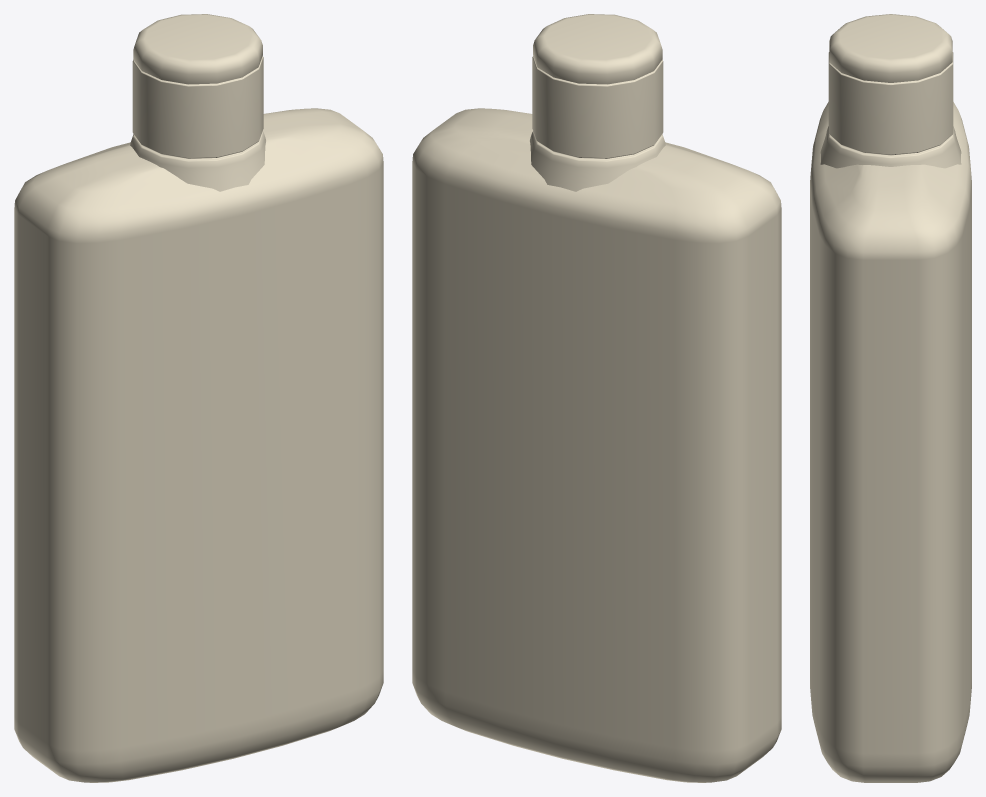
Rendered from Dish liquid bottle.fbx.
The picture shows the model from 3 angles, left to right: view 1: azimuth 30°, elevation 25°; view 2: azimuth 150°, elevation 25°; view 3: azimuth 270°, elevation 25°; orthographic projection. The views are drawn at different scales.
Parts seen in each view (by area): view 1: pCylinder2; view 2: pCylinder2; view 3: pCylinder2.
Part boxes in pixels (left/top/right/bottom): pCylinder2: left=14, top=14, right=383, bottom=782; pCylinder2: left=412, top=14, right=781, bottom=782; pCylinder2: left=810, top=14, right=971, bottom=782.
Size of the model in its own units: 0.0638 by 0.128 by 0.0277.
